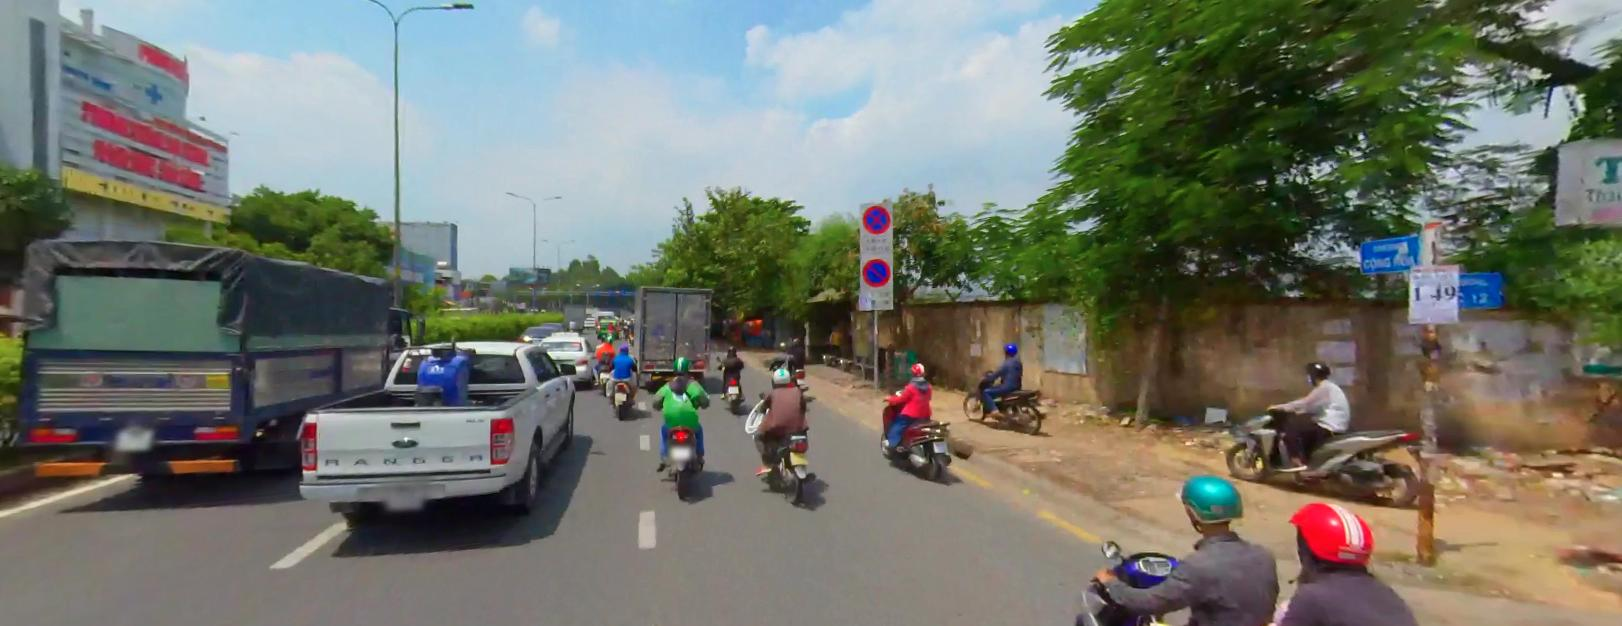Cam dung va do: (860, 258, 893, 284), (863, 205, 891, 232)
